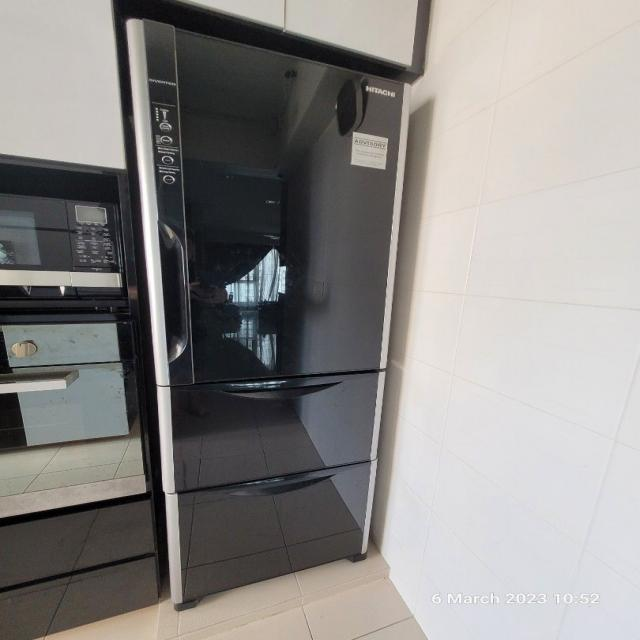refrigerator: (121, 15, 413, 614)
